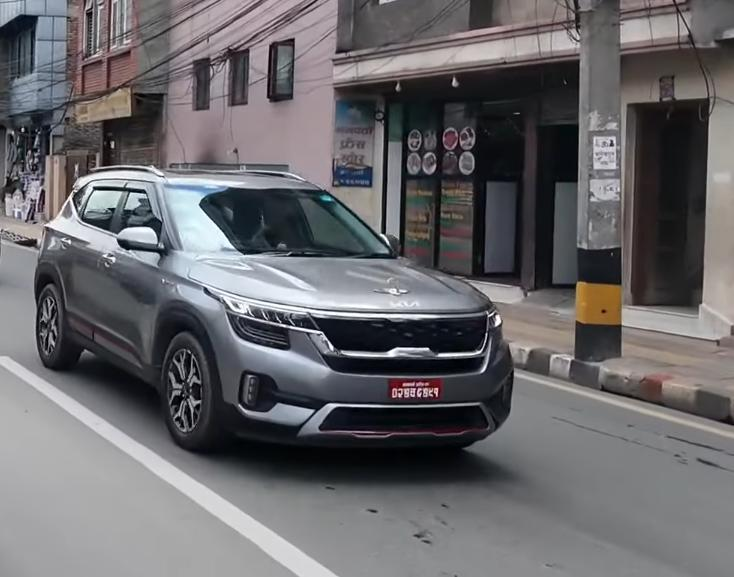car: (36, 161, 524, 457)
